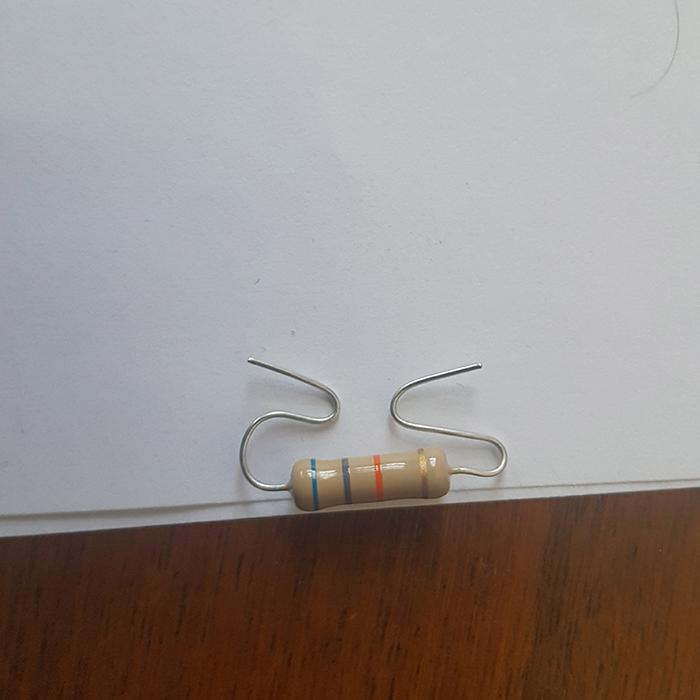resistor: (287, 445, 453, 511)
